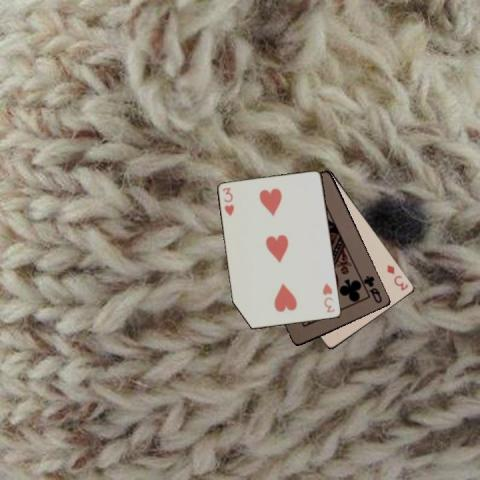3d: (384, 262, 410, 292)
3h: (320, 281, 336, 314), (220, 185, 236, 217)
Qc: (361, 272, 383, 304)
